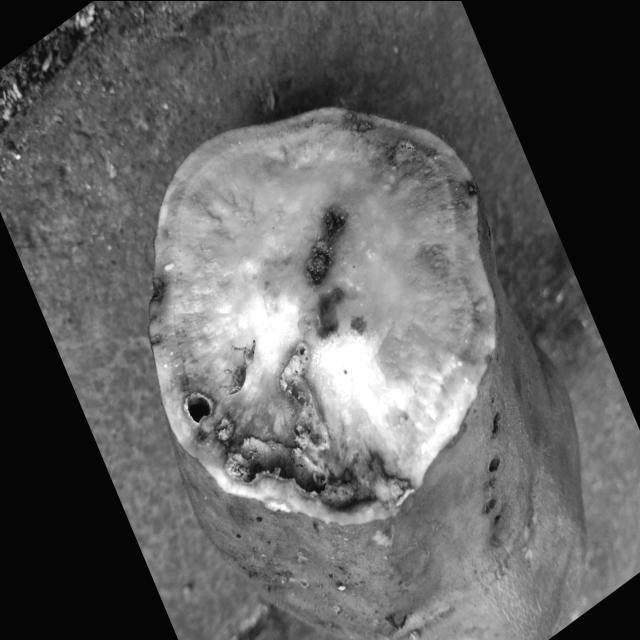Sick Sweet Potato_Tuber Rot: (149, 107, 496, 523)
